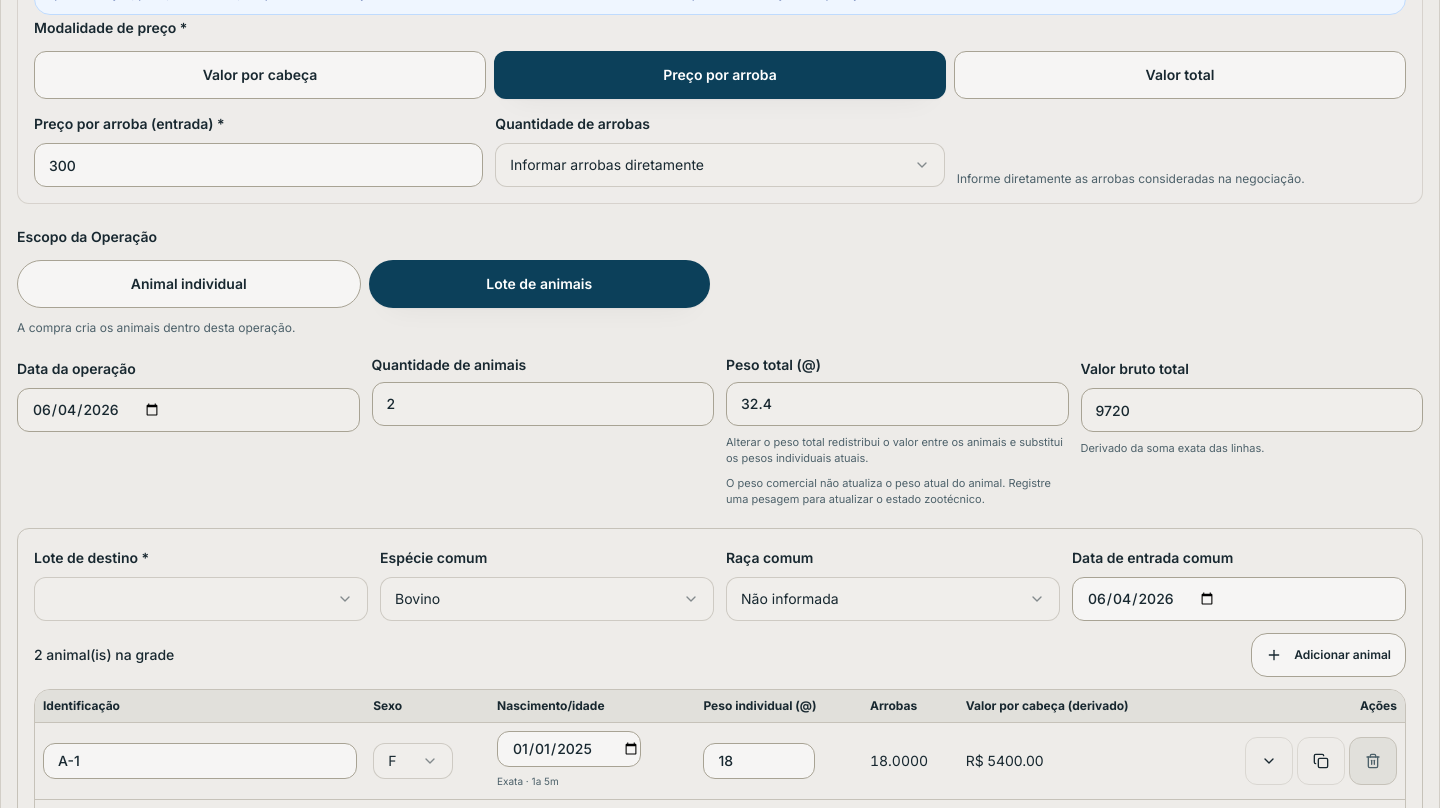
Test case: RegistrarComercialSection › recebe arrobas diretamente e redistribui na unidade selecionada
(page scrolled)
Expected: the column heading "Peso individual (@)" is shown, top-left (695, 690), bottom-right (862, 722)
Expected: the dropdown named "Base de cálculo da arroba" is shown, top-left (495, 143), bottom-right (945, 187)
Replace the text in the number field named "Peso total (@)" with "30": [897, 404] box top-left (726, 382), bottom-right (1068, 426)
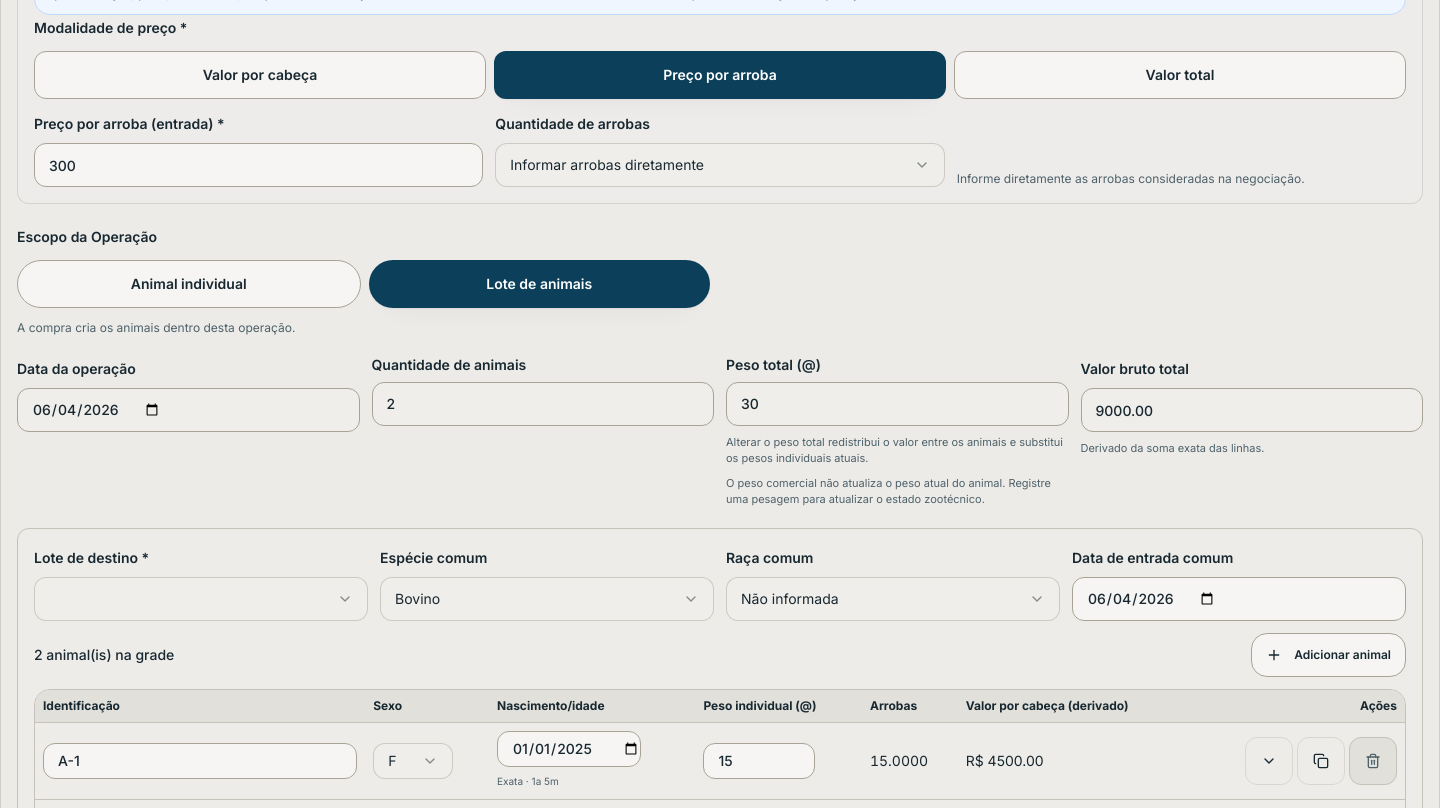
Expected: the number field named "Peso animal 1" holds "15"
Replace the text in the number field named "Peso animal 1" with "12": [759, 760] box top-left (703, 742), bottom-right (815, 778)
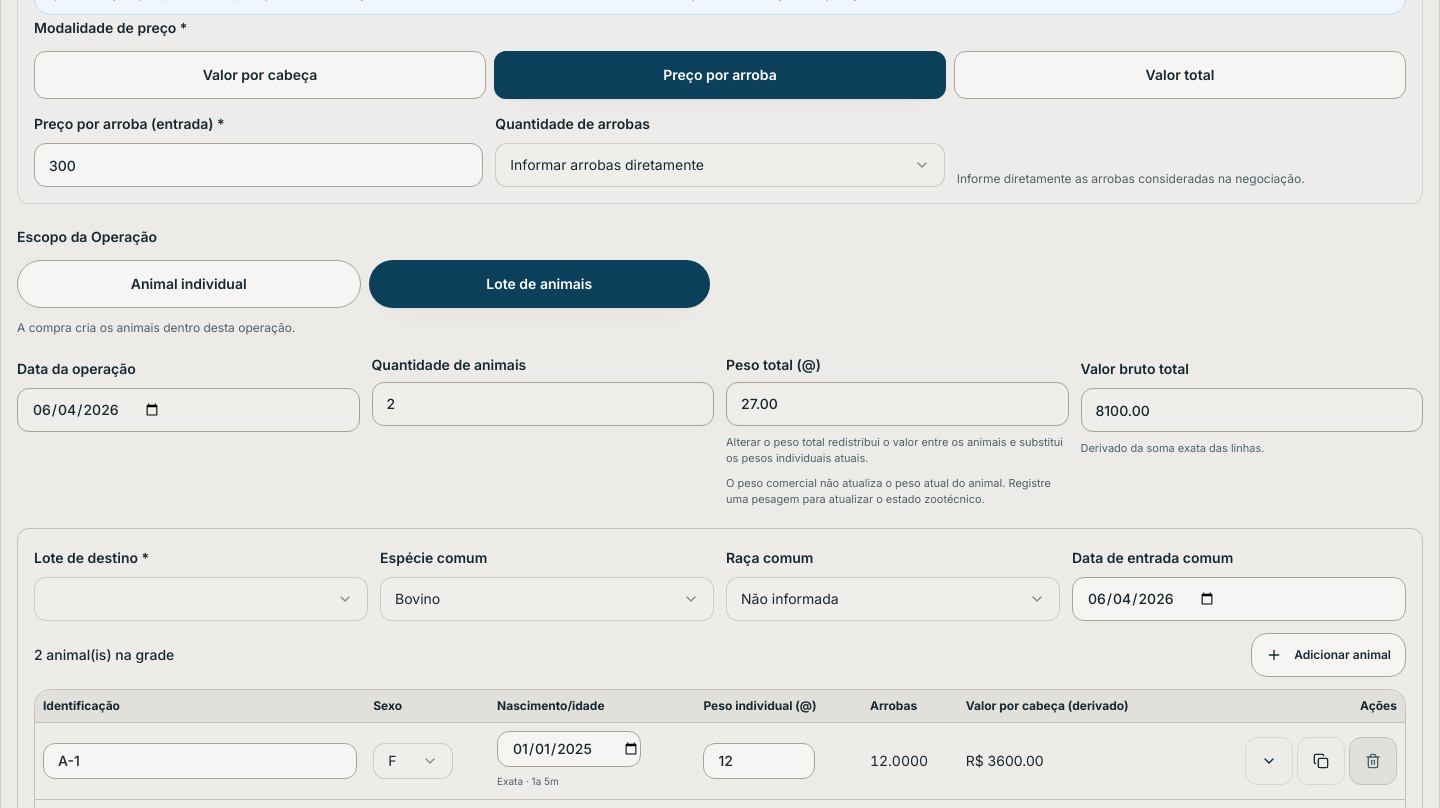
Expected: the number field named "Peso total (@)" holds "27", top-left (726, 382), bottom-right (1068, 426)
